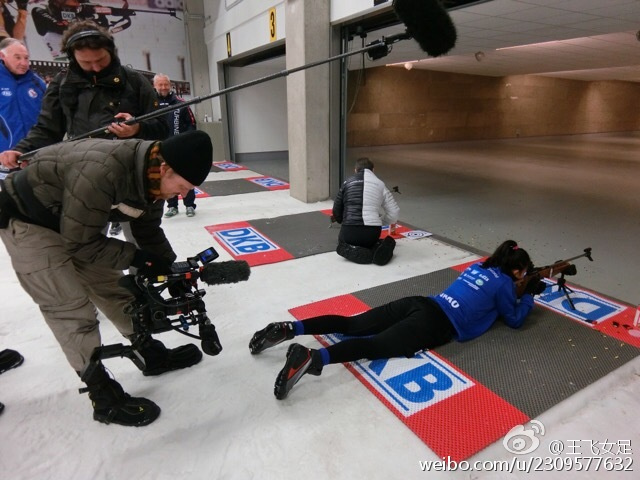fall: (243, 233, 554, 403)
